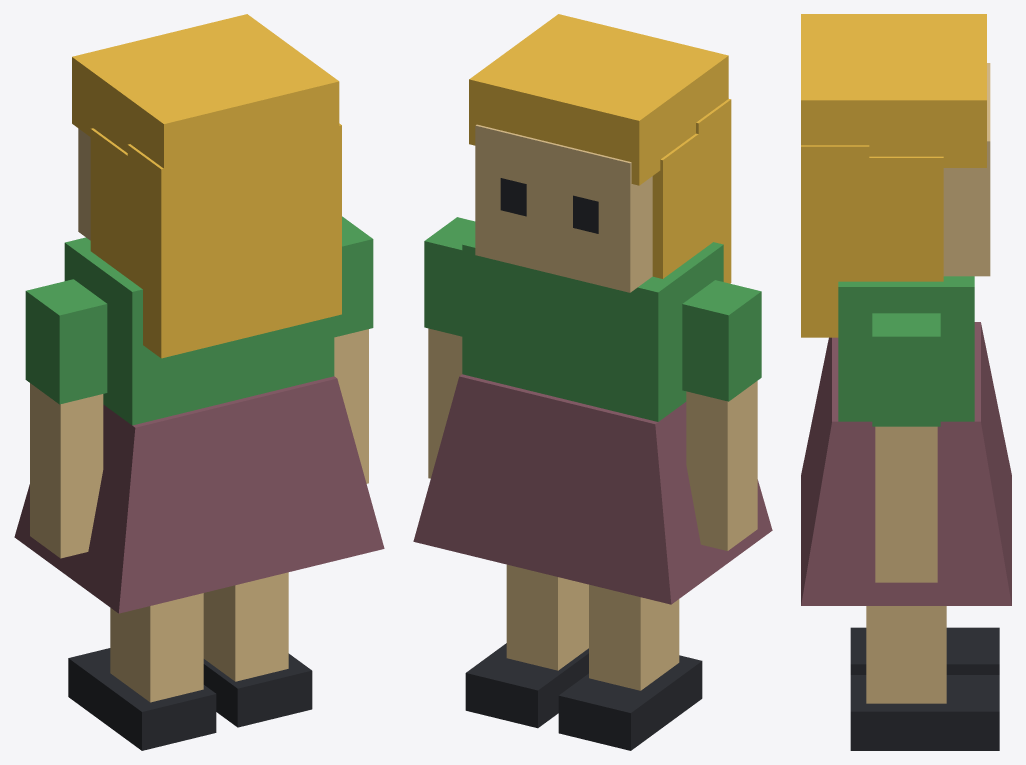
File: H_WomanSkirt.fbx
The picture shows the model from 3 angles, left to right: view 1: azimuth 30°, elevation 25°; view 2: azimuth 150°, elevation 25°; view 3: azimuth 270°, elevation 25°; orthographic projection. The views are drawn at different scales.
Parts seen in each view (by area): view 1: H_WomanSkirt; view 2: H_WomanSkirt; view 3: H_WomanSkirt.
Part boxes in pixels (<box>): H_WomanSkirt: <box>14,14,384,750</box>; H_WomanSkirt: <box>413,14,772,750</box>; H_WomanSkirt: <box>801,14,1011,750</box>.
Bounding box in the file's own units: 0.59 × 1.16 × 0.34.
